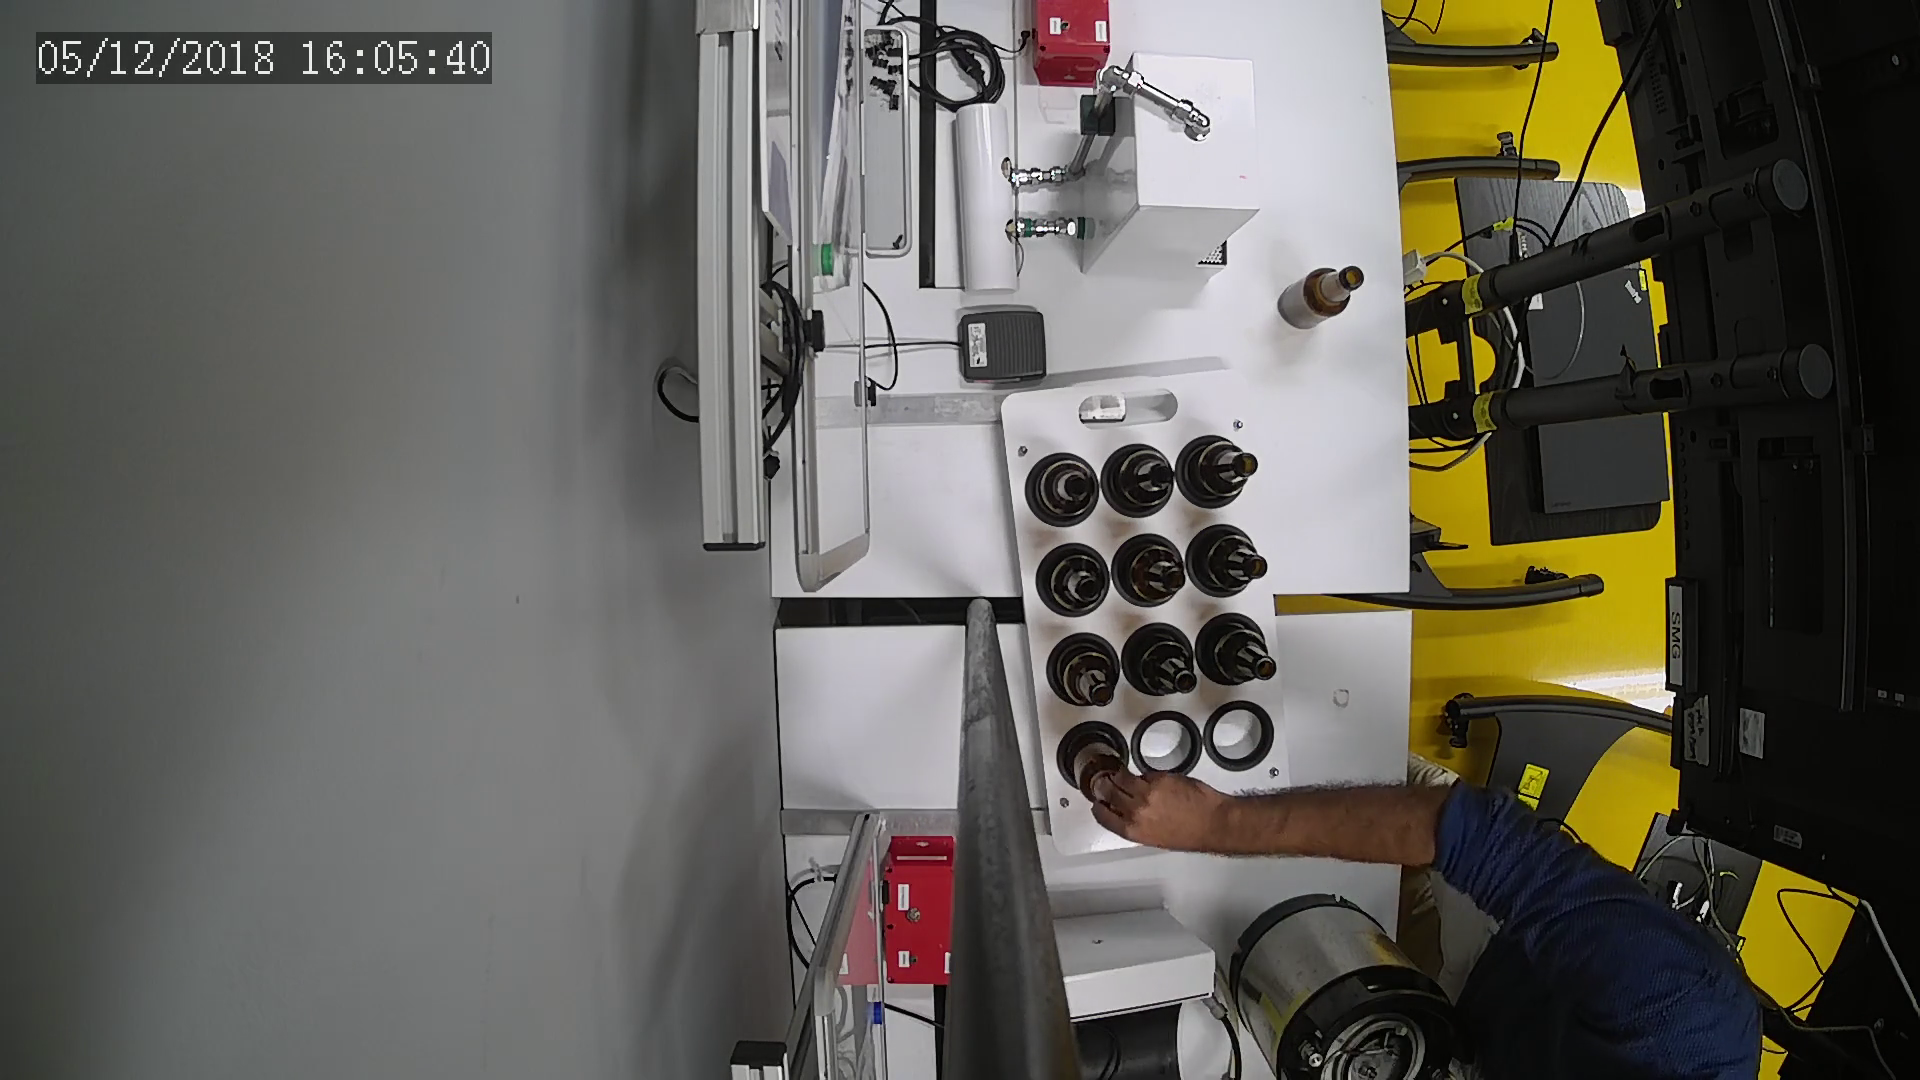filled_bottle: (1114, 615, 1208, 707), (1183, 516, 1279, 605), (1097, 430, 1179, 530), (1039, 624, 1124, 720), (1018, 448, 1106, 534), (1026, 538, 1114, 618), (1201, 607, 1280, 694), (1179, 430, 1261, 506), (1108, 531, 1183, 611)
trolley: (972, 359, 1304, 858)
unfilled_bottle: (1274, 258, 1374, 336)
